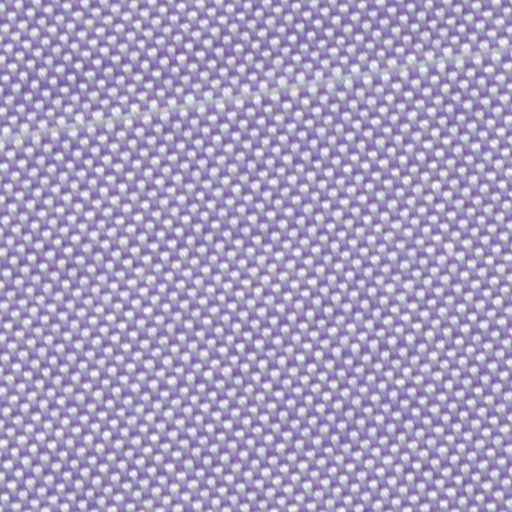TuoSha: (18, 38, 500, 150)
